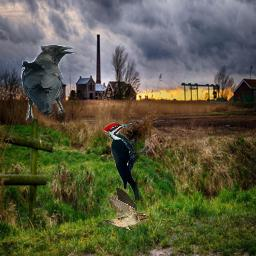Crow: (21, 42, 75, 128)
Swallow: (100, 187, 148, 231)
Woodpecker: (103, 121, 150, 200)
